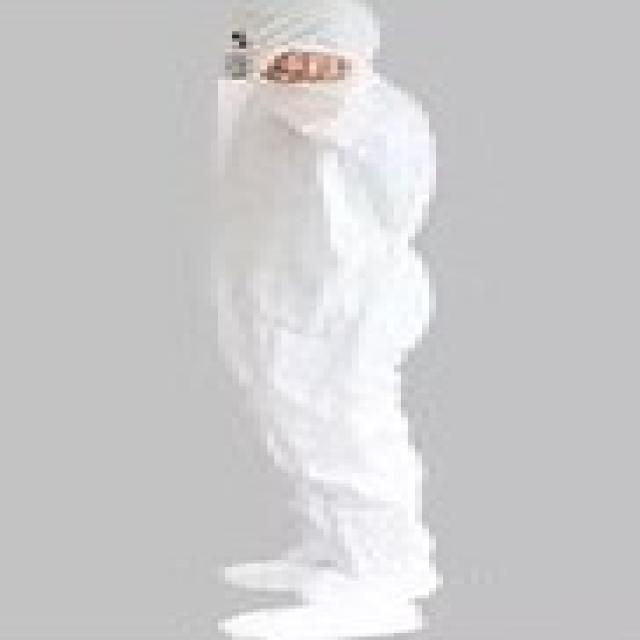Coverall: (42, 4, 563, 636)
